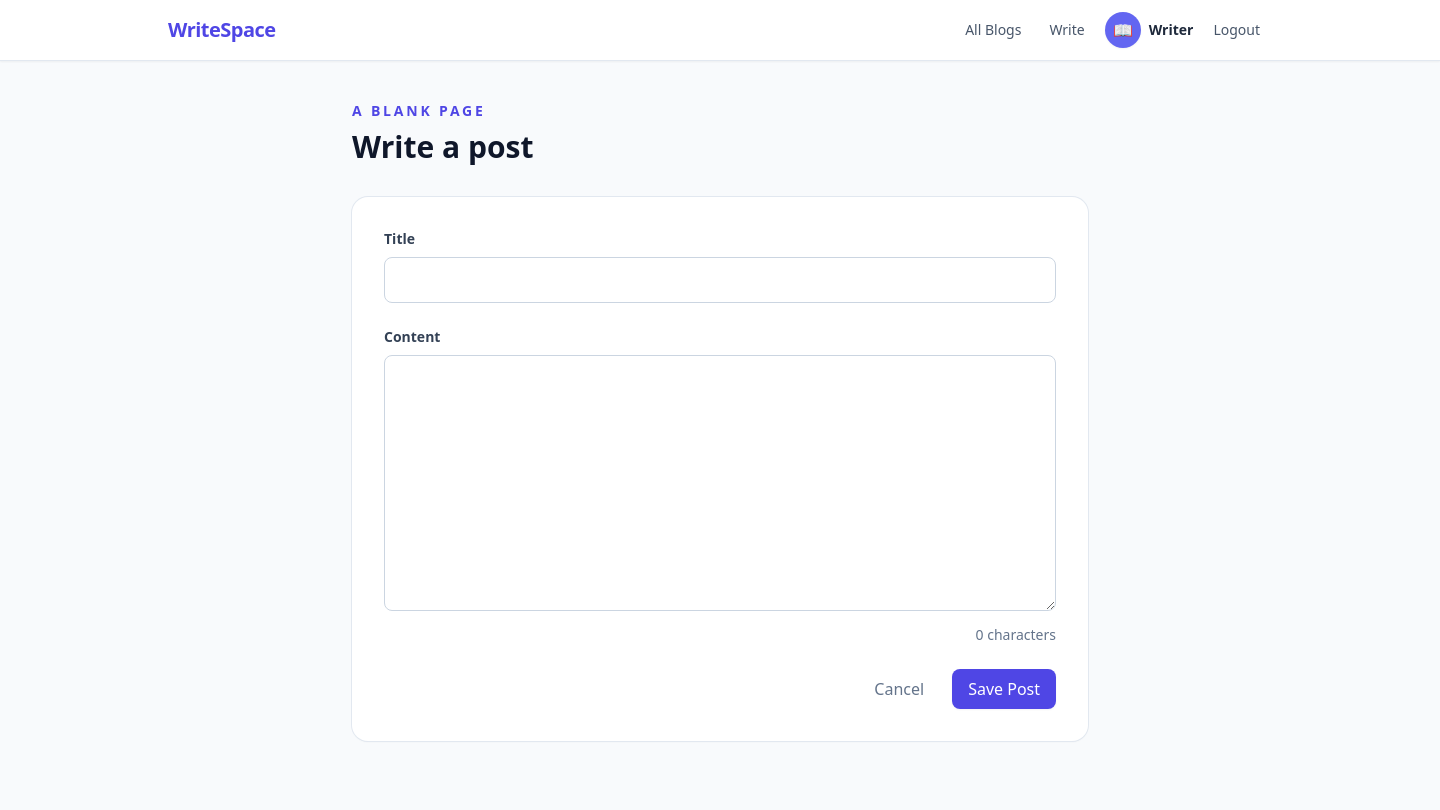
Test case: WriteBlog › shows field errors when an author submits blank post fields
Click the button "Save Post". click: (1004, 689)
box: [952,669,1056,709]
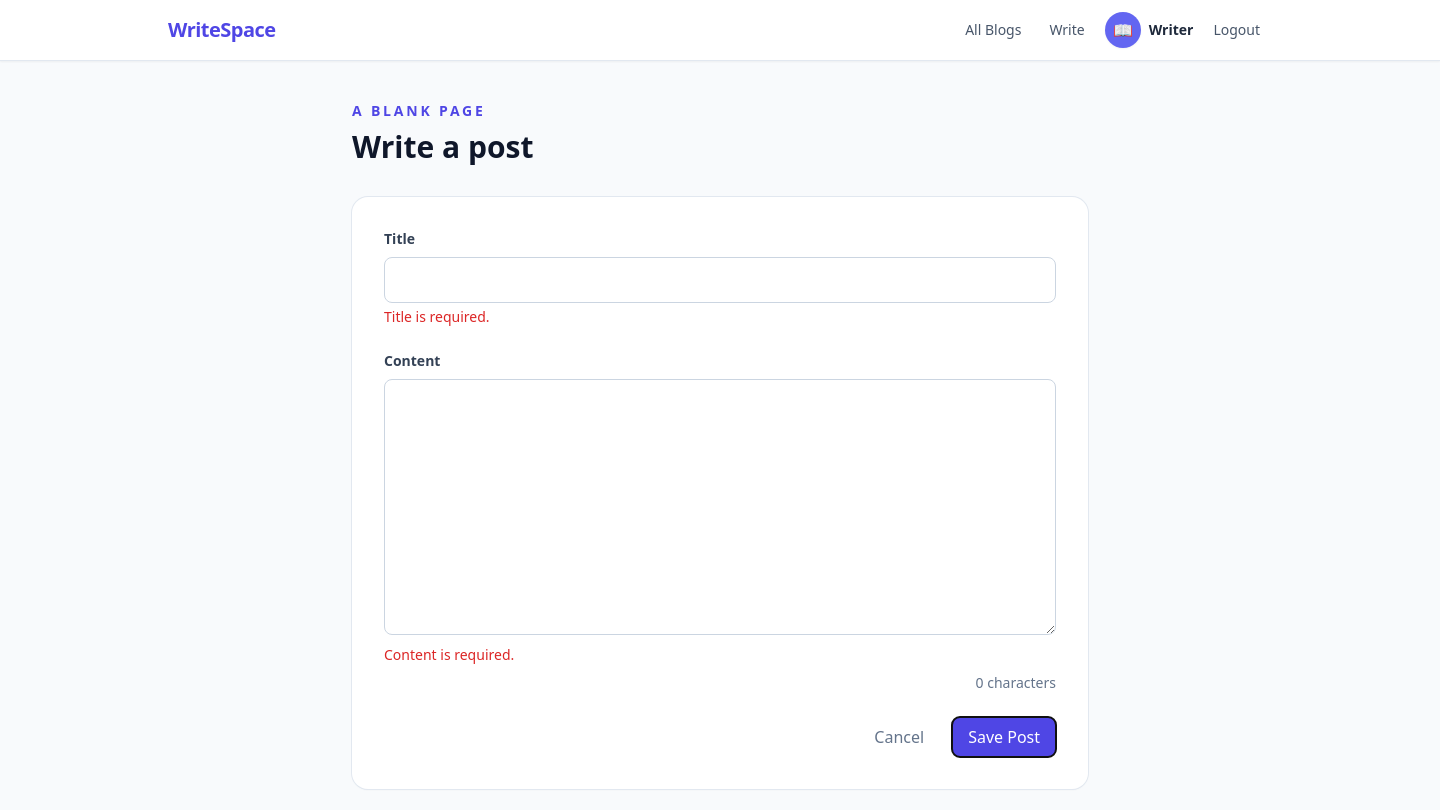
Check: the text "Title is required." is shown, box [384,307,490,326]
Check: the text "Content is required." is shown, box [384,645,514,664]
